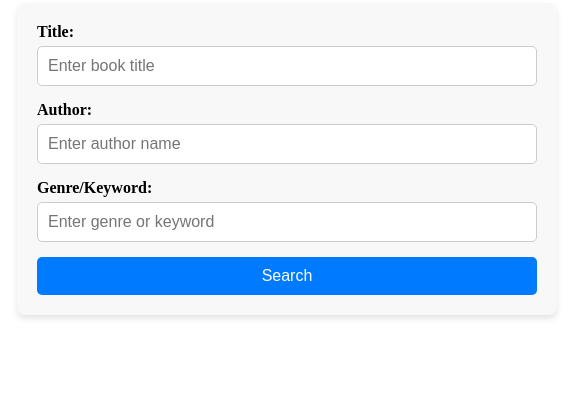
Test: SearchForm Component › shows validation error when submitting empty fields
Find and click the search button
Click the button "Search".
click(287, 276)  # box left=37, top=257, right=537, bottom=295
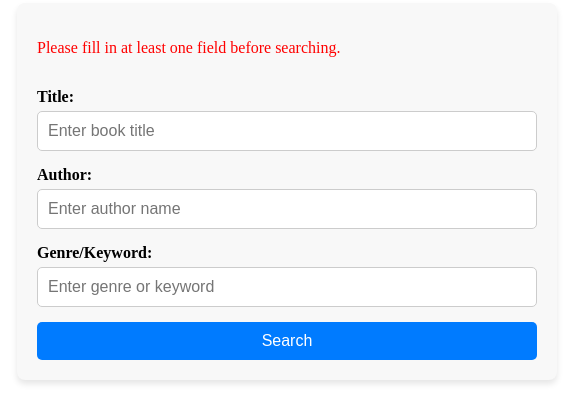
Result: the text "Please fill in at least one field before searching." is shown at left=37, top=39, right=340, bottom=56
